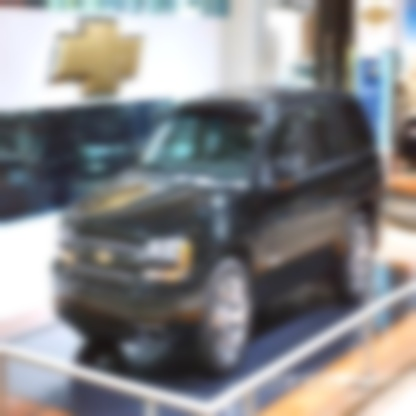Vehicle: (50, 85, 389, 380)
